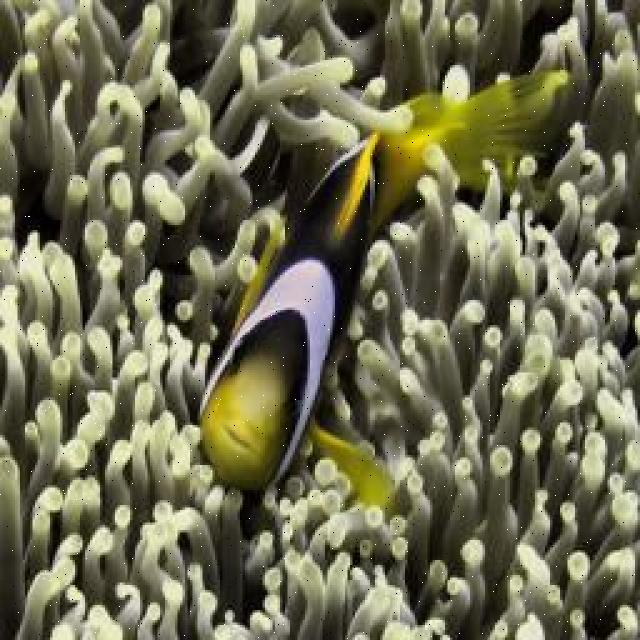fish: (196, 71, 571, 513)
reefs: (0, 0, 638, 638)
